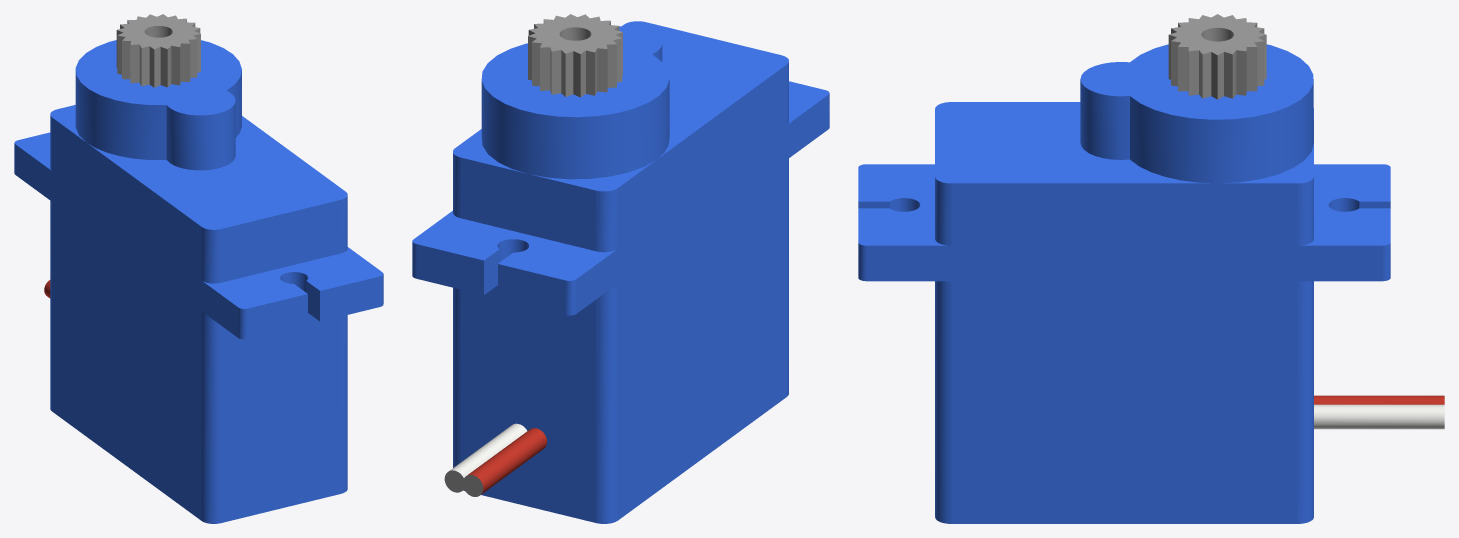
The model's file is ada-2941.glb.
The picture shows the model from 3 angles, left to right: view 1: azimuth 30°, elevation 25°; view 2: azimuth 150°, elevation 25°; view 3: azimuth 270°, elevation 25°; orthographic projection. The views are drawn at different scales.
Parts seen in each view (by area): view 1: 0.08333333333333333_0.16666666666666666_1_0, 0.3333333333333333_0.3333333333333333_0.3333333333333333_0; view 2: 0.08333333333333333_0.16666666666666666_1_0, 0.3333333333333333_0.3333333333333333_0.3333333333333333_0, 0.5833333333333334_0_0_0, 0.9166666666666666_0.9166666666666666_0.9166666666666666_0.8; view 3: 0.08333333333333333_0.16666666666666666_1_0, 0.3333333333333333_0.3333333333333333_0.3333333333333333_0, 0.9166666666666666_0.9166666666666666_0.9166666666666666_0.8, 0.5833333333333334_0_0_0.
Boxes of the visible parts, x1,y1,x2,y2 form: 0.08333333333333333_0.16666666666666666_1_0: (14,40,383,523); 0.3333333333333333_0.3333333333333333_0.3333333333333333_0: (116,14,200,87); 0.08333333333333333_0.16666666666666666_1_0: (412,21,829,523); 0.3333333333333333_0.3333333333333333_0.3333333333333333_0: (444,14,622,496); 0.5833333333333334_0_0_0: (467,428,546,494); 0.9166666666666666_0.9166666666666666_0.9166666666666666_0.8: (449,423,527,489); 0.08333333333333333_0.16666666666666666_1_0: (858,44,1390,523); 0.3333333333333333_0.3333333333333333_0.3333333333333333_0: (1168,14,1266,99); 0.9166666666666666_0.9166666666666666_0.9166666666666666_0.8: (1314,404,1444,429); 0.5833333333333334_0_0_0: (1314,395,1444,404).
Bounding box in the file's own units: 1.18 × 3.03 × 3.59.
